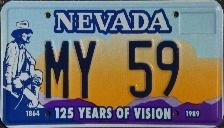5: (126, 38, 155, 99)
9: (154, 38, 185, 97)
M: (39, 37, 73, 100)
Y: (69, 38, 101, 100)
